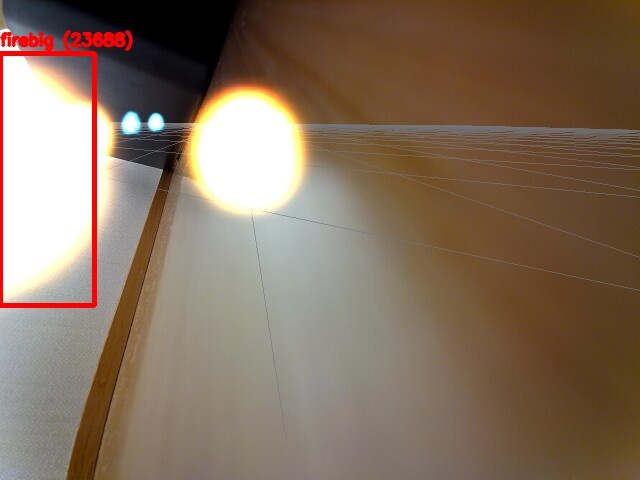firebig: (0, 53, 94, 305)
